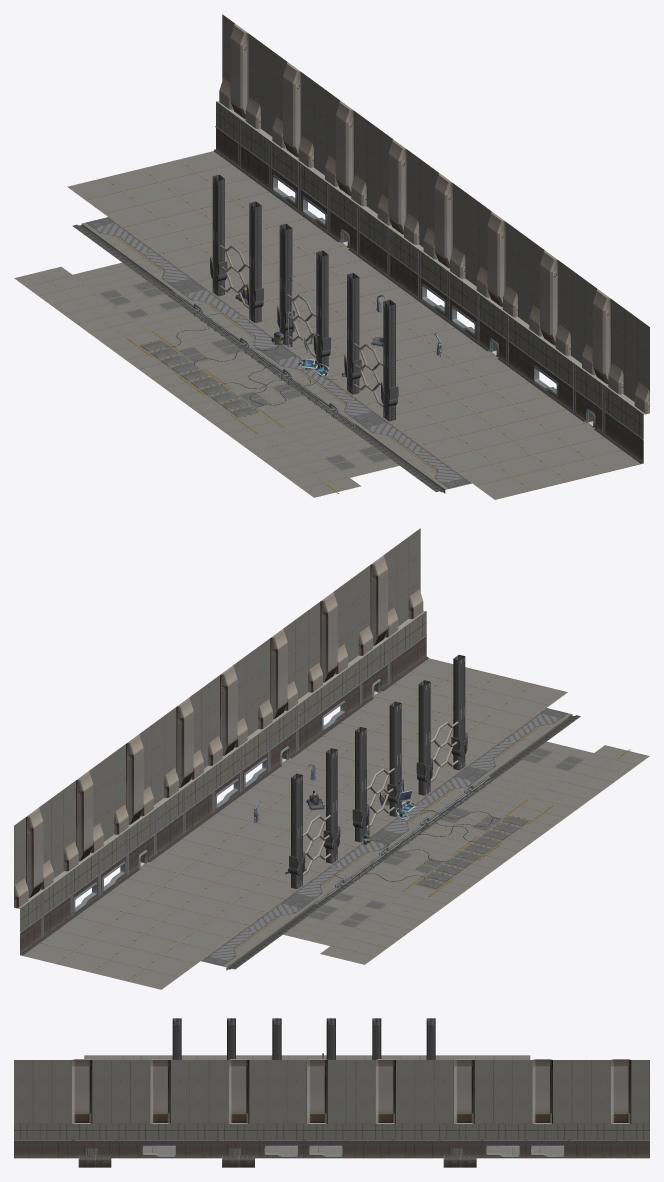
Rendered from jijiazhanshi.FBX.
The picture shows the model from 3 angles, top to bottom: view 1: azimuth 30°, elevation 25°; view 2: azimuth 150°, elevation 25°; view 3: azimuth 270°, elevation 25°; orthographic projection. The views are drawn at different scales.
Parts seen in each view (by area): view 1: changjin_02, changjin_01; view 2: changjin_02, changjin_01; view 3: changjin_02, changjin_01.
Part boxes in pixels (left/top/right/bottom): changjin_02: left=14, top=14, right=649, bottom=499; changjin_01: left=72, top=101, right=643, bottom=492; changjin_02: left=14, top=528, right=649, bottom=989; changjin_01: left=20, top=611, right=580, bottom=969; changjin_02: left=14, top=1018, right=649, bottom=1155; changjin_01: left=14, top=1053, right=649, bottom=1167.
Bounding box in the file's own units: 150 × 68.75 × 358.
